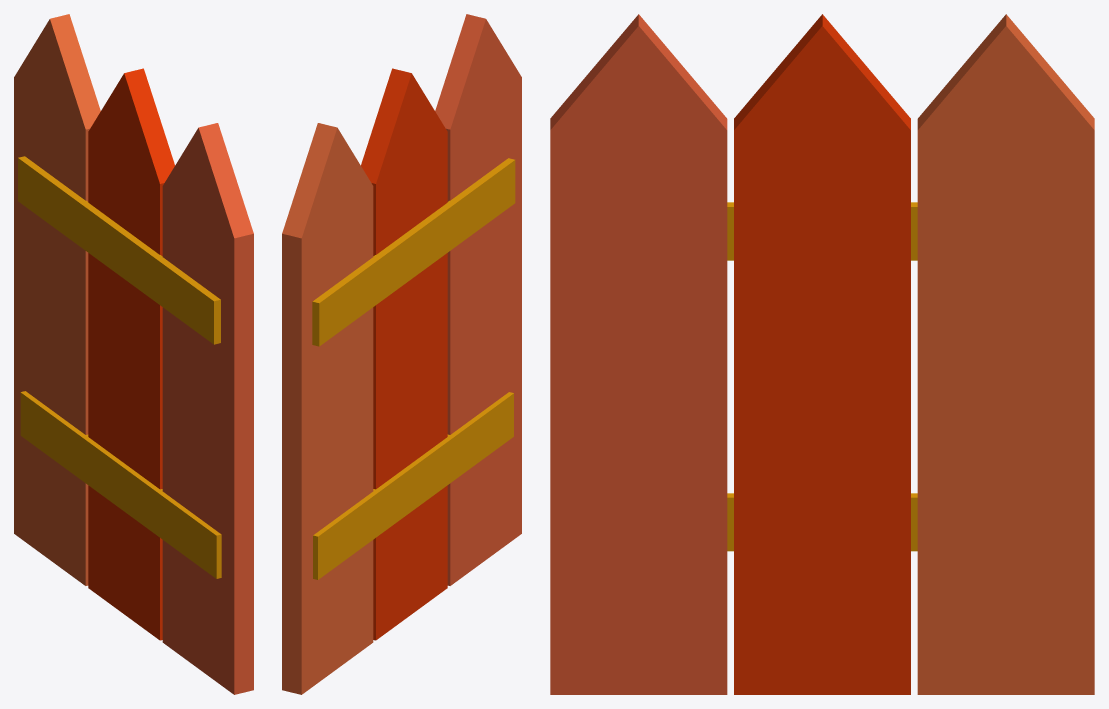
File: plot1.fbx
The picture shows the model from 3 angles, left to right: view 1: azimuth 30°, elevation 25°; view 2: azimuth 150°, elevation 25°; view 3: azimuth 270°, elevation 25°; orthographic projection. The views are drawn at different scales.
Visible parts, largest first — view 1: Cube.003, Cube.004, Cube.005, Kostka.002, Kostka.001; view 2: Cube.004, Cube.003, Cube.005, Kostka.002, Kostka.001; view 3: Cube.004, Cube.003, Cube.005, Kostka.001, Kostka.002.
Boxes of the visible parts, x1,y1,x2,y2 form: Cube.003: [162, 123, 253, 694]; Cube.004: [14, 14, 100, 585]; Cube.005: [88, 68, 174, 640]; Kostka.002: [18, 156, 220, 344]; Kostka.001: [20, 391, 221, 578]; Cube.004: [282, 123, 373, 694]; Cube.003: [435, 14, 521, 585]; Cube.005: [361, 68, 447, 640]; Kostka.002: [312, 158, 515, 346]; Kostka.001: [313, 392, 513, 579]; Cube.004: [917, 14, 1094, 694]; Cube.003: [550, 14, 727, 694]; Cube.005: [734, 14, 910, 694]; Kostka.001: [727, 493, 917, 551]; Kostka.002: [727, 202, 917, 260].
Size of the model in its own units: 12.14 by 237 by 175.
